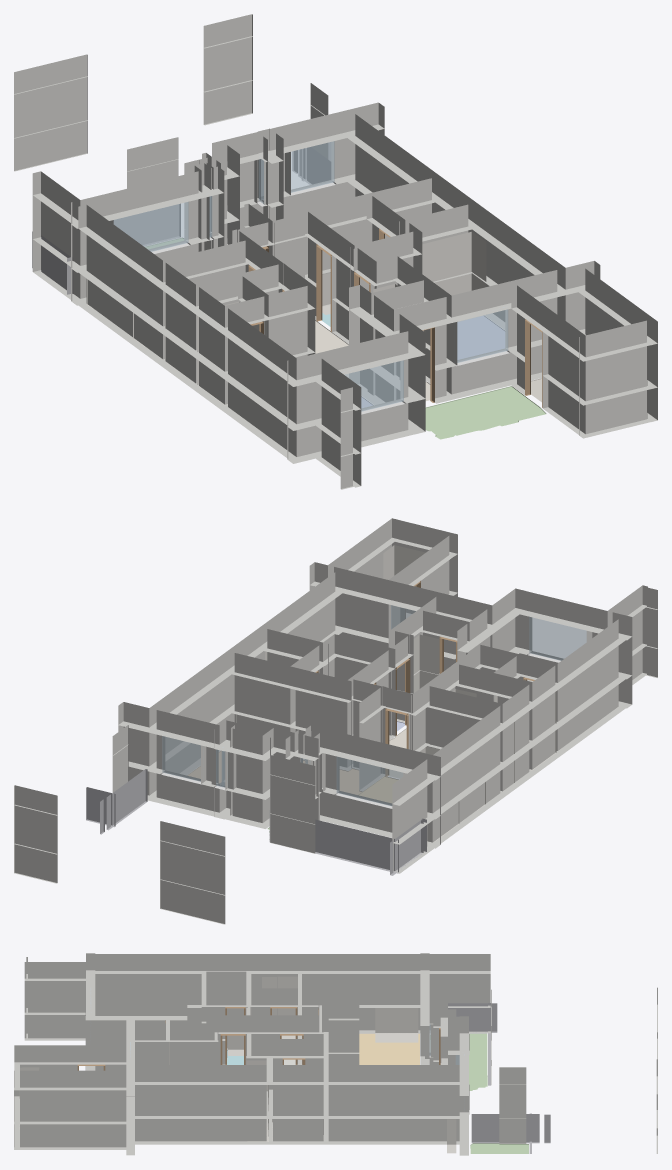
The picture shows the model from 3 angles, top to bottom: view 1: azimuth 30°, elevation 25°; view 2: azimuth 150°, elevation 25°; view 3: azimuth 270°, elevation 25°; orthographic projection. The views are drawn at different scales.
Parts seen in each view (by area): view 1: walls, railings, floor_14_Outdoor, furniture_3_closet, window_2, window_3, window_1, window_14, floor_7_Bed_Room, door_8; view 2: walls, railings, window_2, window_1, window_14, furniture_5_closet, furniture_6_closet, floor_0_Living_Room; view 3: walls, railings, floor_1_Kitchen, furniture_8_appliance, floor_13_Outdoor, floor_12_Outdoor, furniture_0_closet, furniture_7_appliance, furniture_17_sink.
Boxes of the visible parts, x1,y1,x2,y2 form: walls: [14, 14, 657, 489]; railings: [32, 142, 330, 294]; floor_14_Outdoor: [425, 386, 546, 439]; furniture_3_closet: [422, 231, 486, 321]; window_2: [110, 202, 188, 251]; window_3: [454, 307, 508, 362]; window_1: [341, 360, 403, 411]; window_14: [291, 141, 334, 192]; floor_7_Bed_Room: [457, 316, 504, 359]; door_8: [316, 244, 331, 331]; walls: [14, 518, 657, 924]; railings: [86, 769, 426, 875]; window_2: [336, 756, 405, 806]; window_1: [529, 617, 586, 660]; window_14: [162, 736, 203, 781]; furniture_5_closet: [397, 634, 439, 721]; furniture_6_closet: [383, 545, 425, 618]; floor_0_Living_Room: [187, 751, 361, 794]; walls: [14, 953, 657, 1155]; railings: [448, 1003, 550, 1153]; floor_1_Kitchen: [359, 1033, 419, 1064]; furniture_8_appliance: [375, 1008, 418, 1042]; floor_13_Outdoor: [430, 1033, 487, 1090]; floor_12_Outdoor: [470, 1143, 528, 1153]; furniture_0_closet: [277, 976, 297, 1038]; furniture_7_appliance: [447, 1119, 456, 1153]; furniture_17_sink: [228, 1035, 243, 1055].
Bounding box in the file's own units: 9.52 × 2.72 × 20.62.
